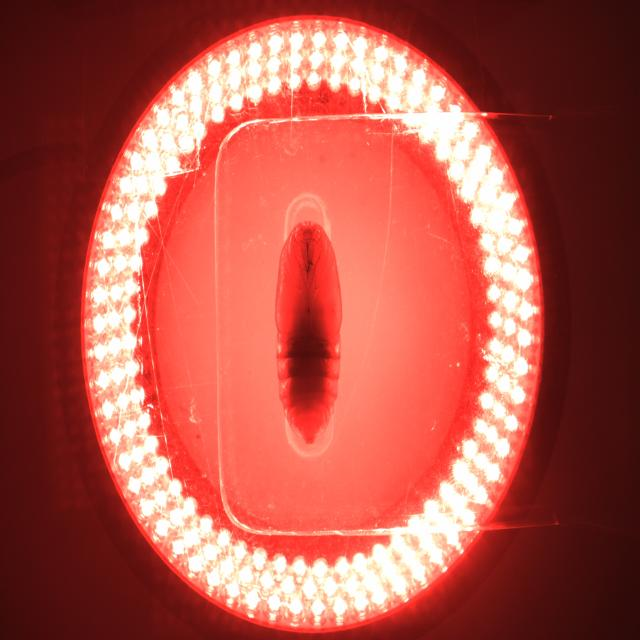female: (306, 422, 313, 432)
